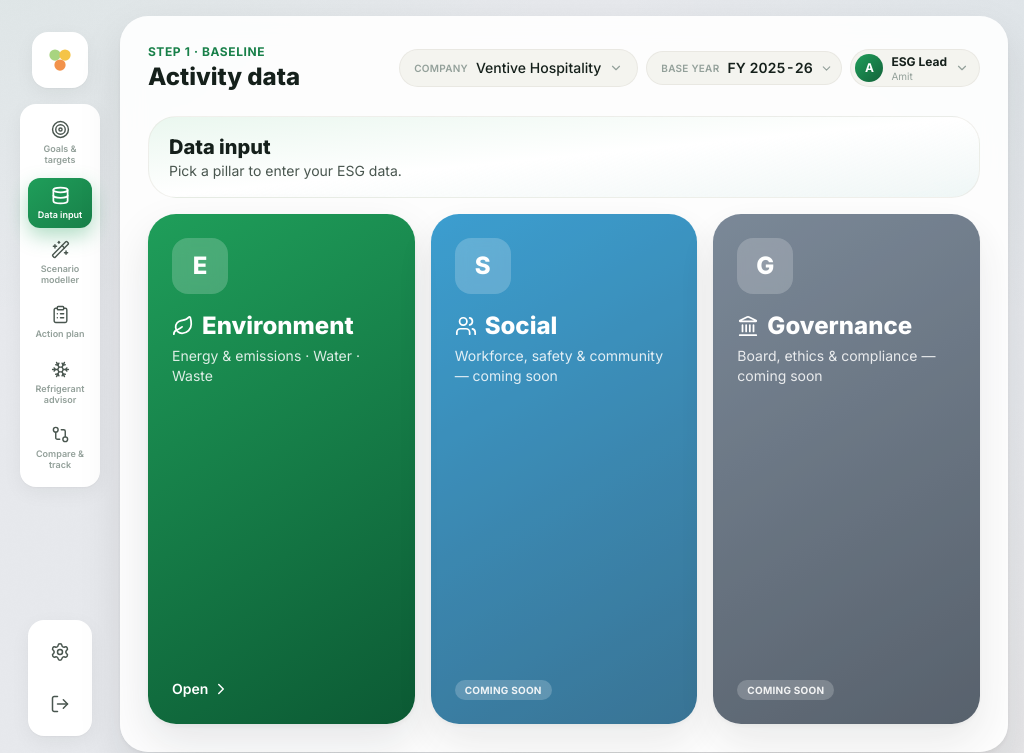
Goals v2 — activate a goal from a template › walks category → template → configure → Activate and lands in My goals
This screenshot has width=1024, height=753.
Click the button "Goals & targets". click: coordinates (60, 143)
box: [28, 112, 92, 174]
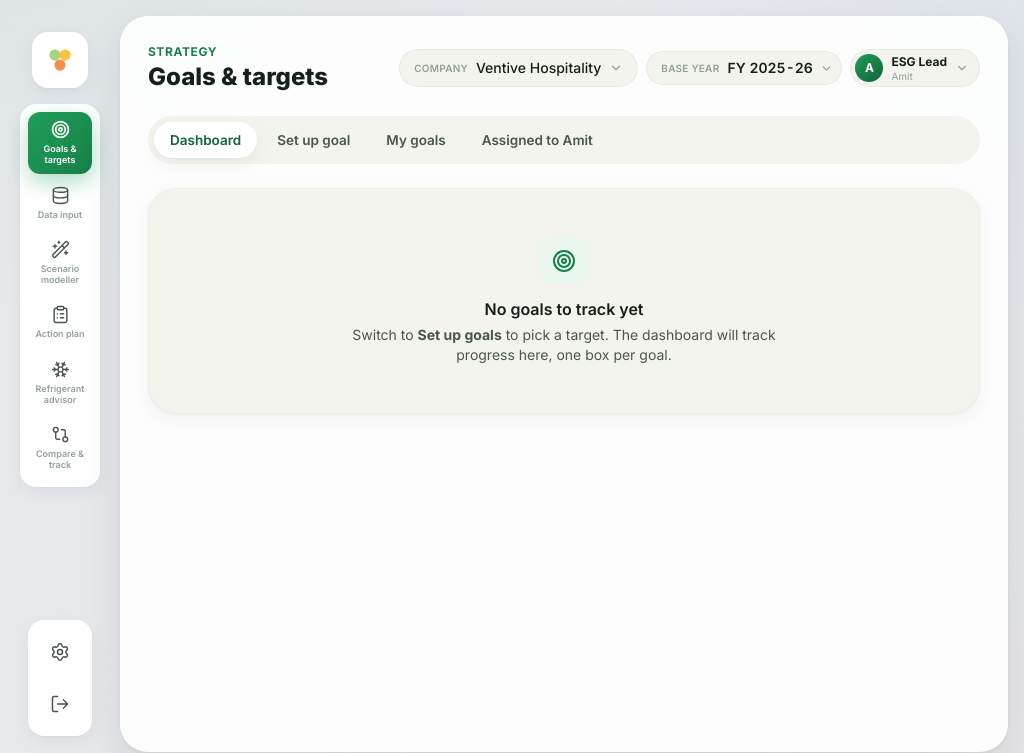
Click the button "Set up goal". click: coordinates (314, 140)
box: [261, 122, 366, 158]
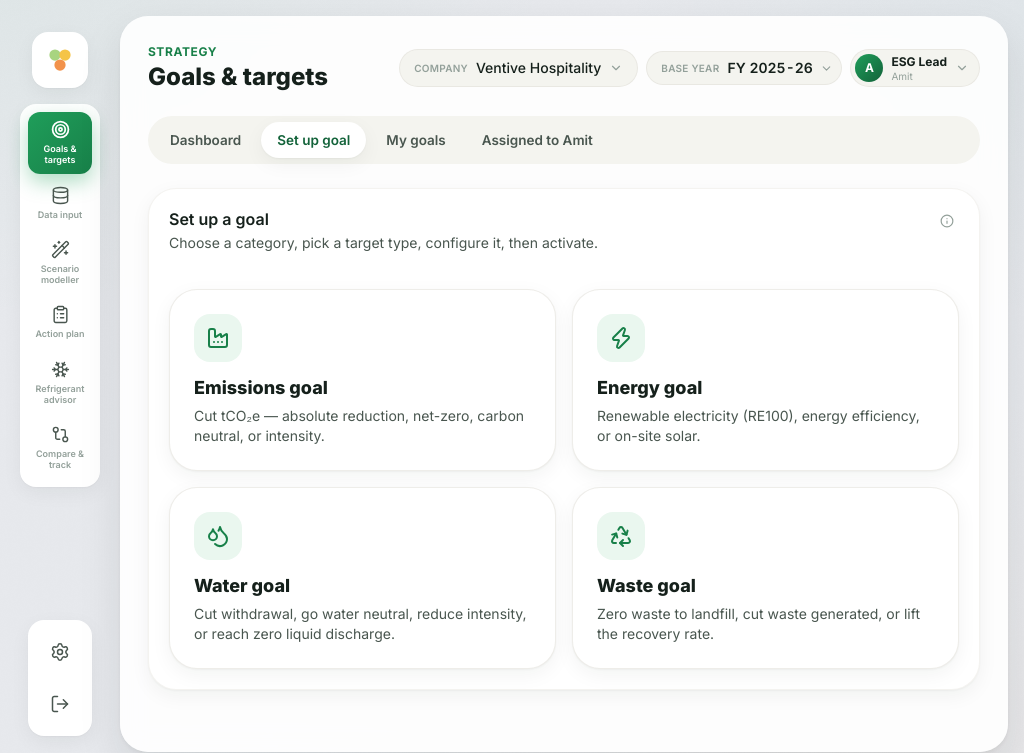
Note: category boxes
Click the button "Emissions goal". click: coordinates (218, 338)
box: [169, 289, 556, 471]
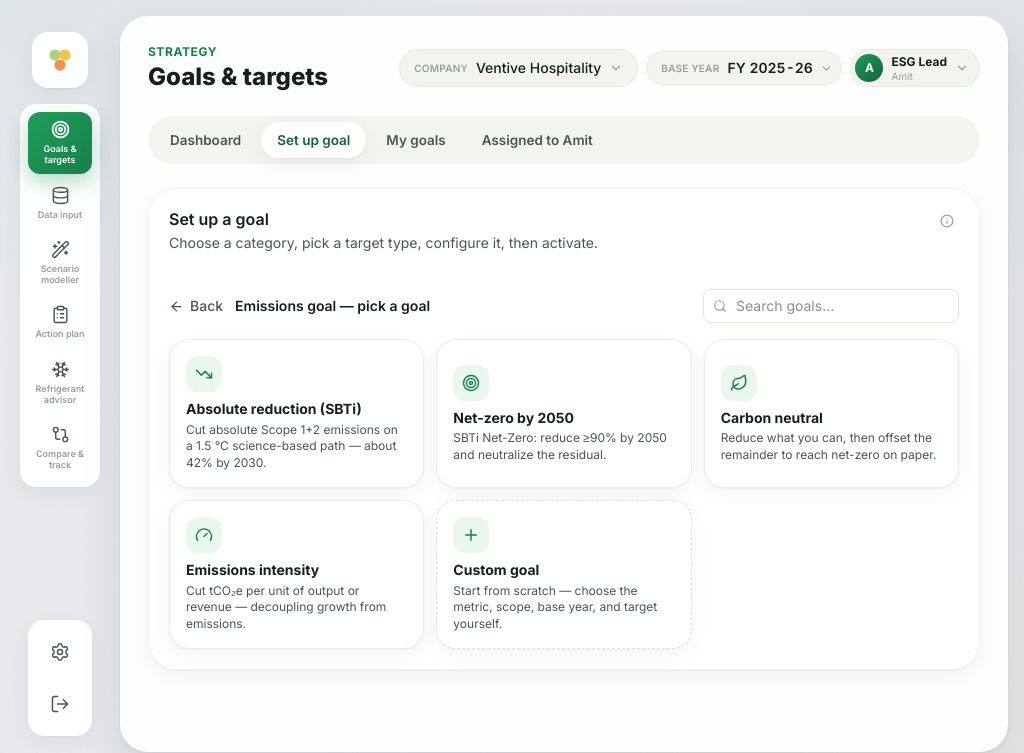
Note: target-type cards
Click the button "Absolute reduction". click: coordinates (297, 414)
box: [169, 339, 424, 488]
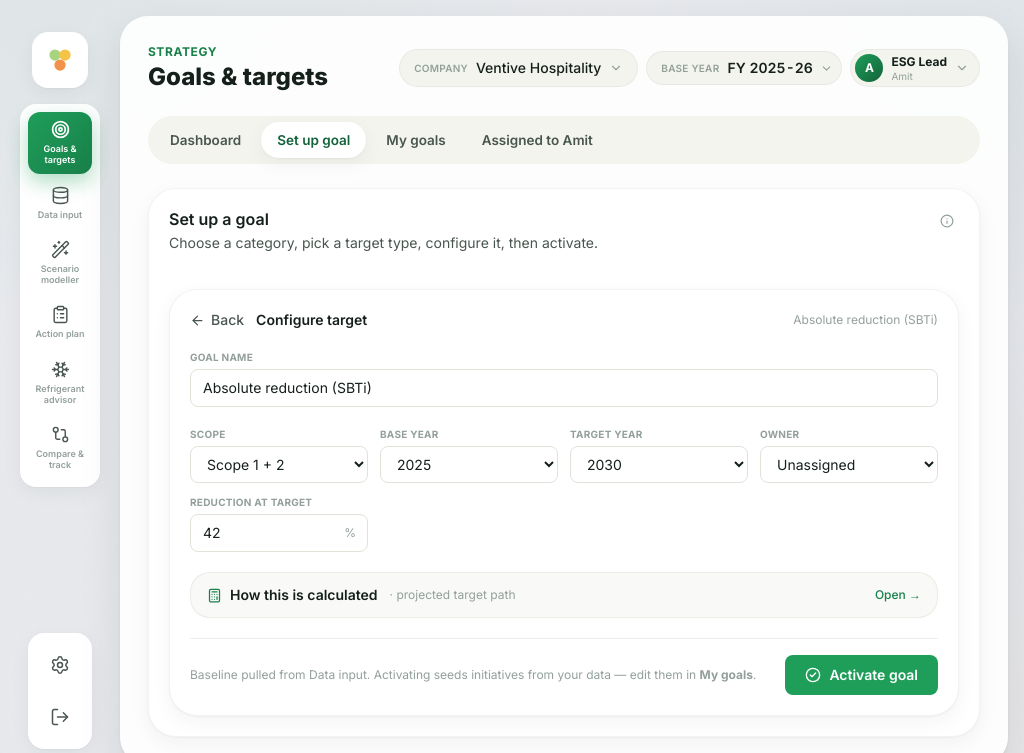
Expected: the field showing "Absolute reduction (SBTi)" is shown, [190, 369, 938, 407]
Click the button "Activate goal". click: coordinates (862, 675)
box: [785, 655, 938, 695]
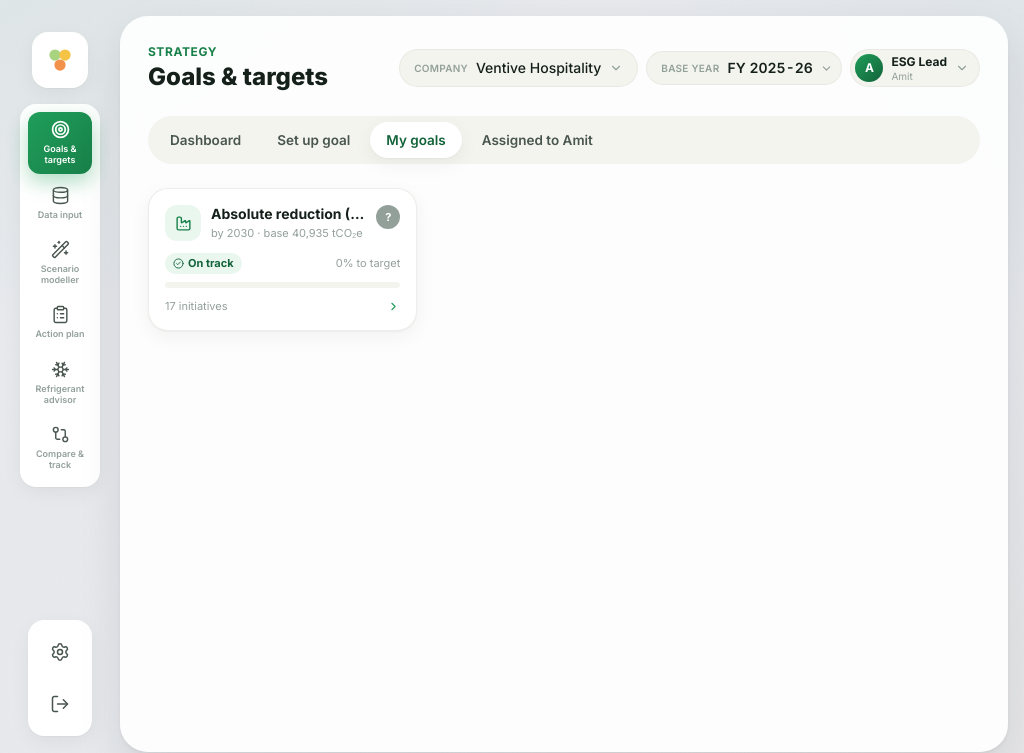
Note: Lands in My goals as a box grid — open the goal's detail screen.
Click the button "Absolute reduction". click: coordinates (183, 223)
box: [148, 188, 417, 331]
(page scrolled)
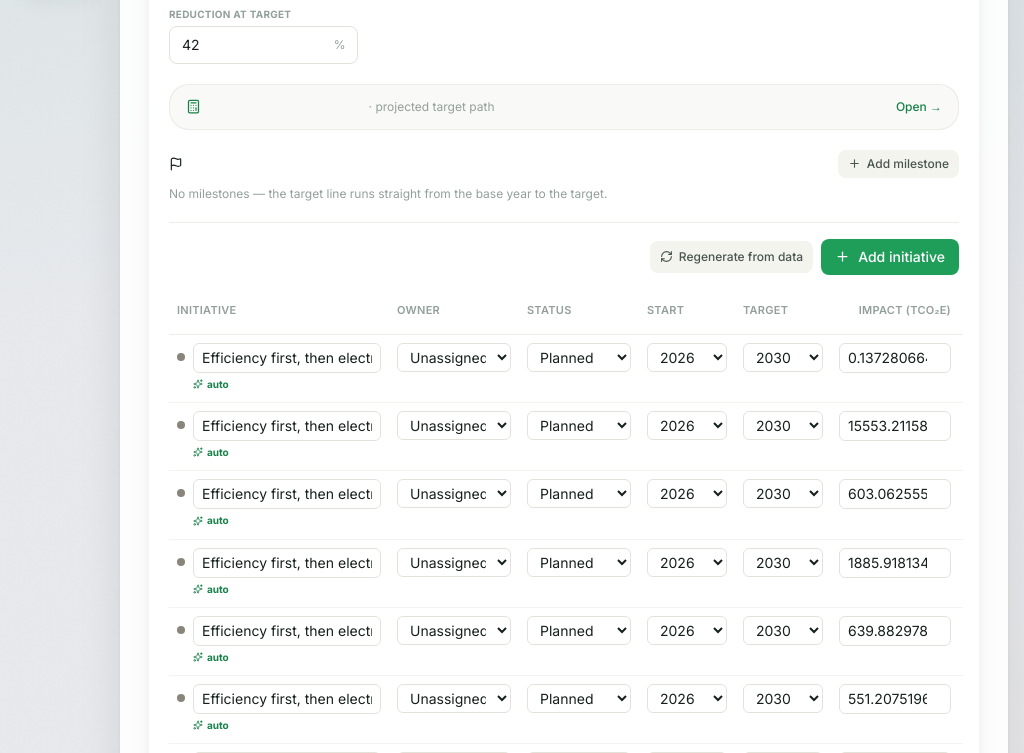
Expected: the 1st text "auto" is shown, [193, 377, 229, 392]
